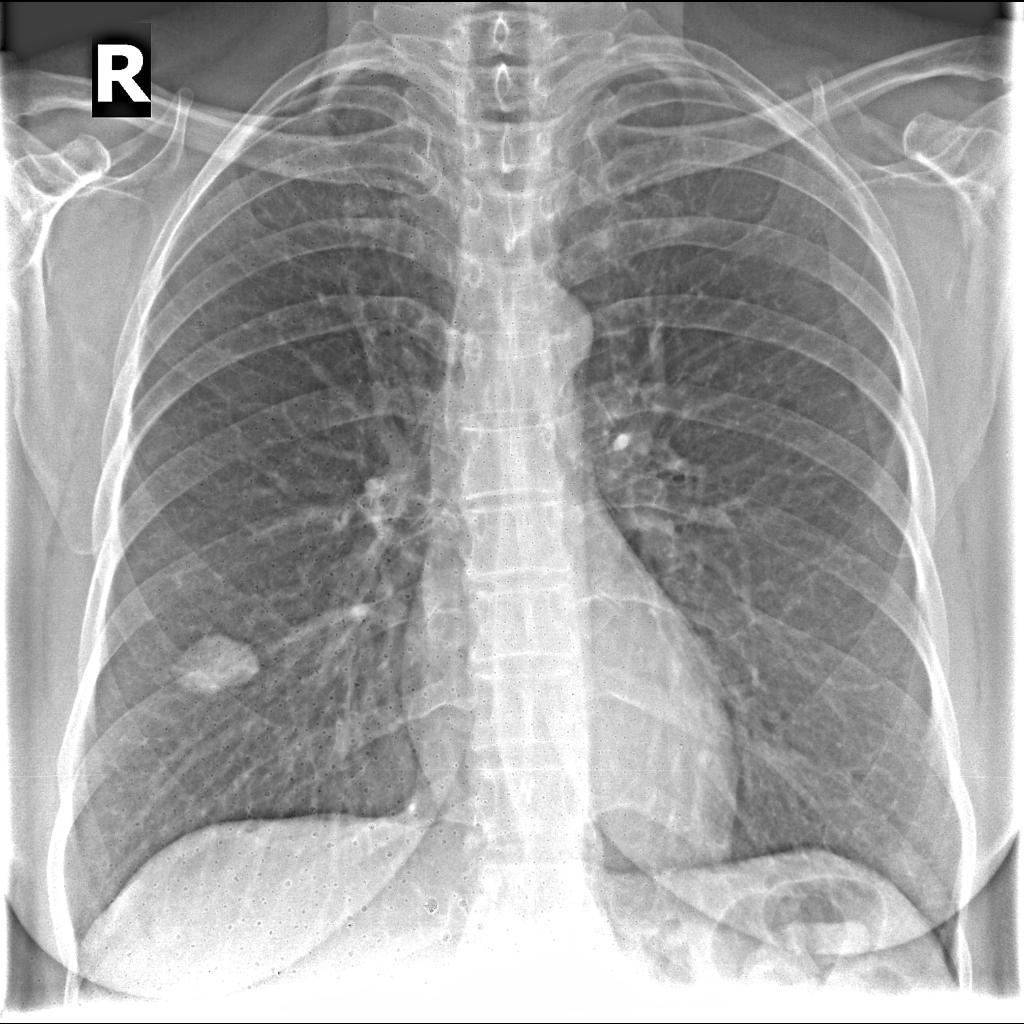Nodule: (166, 632, 260, 692)
